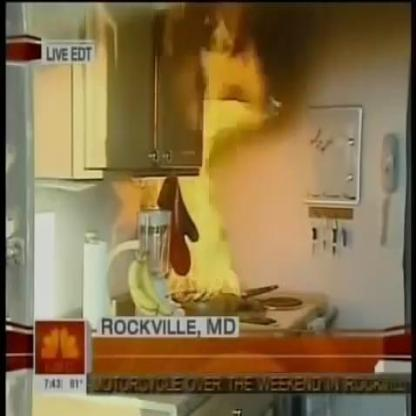fire: (160, 20, 279, 306)
